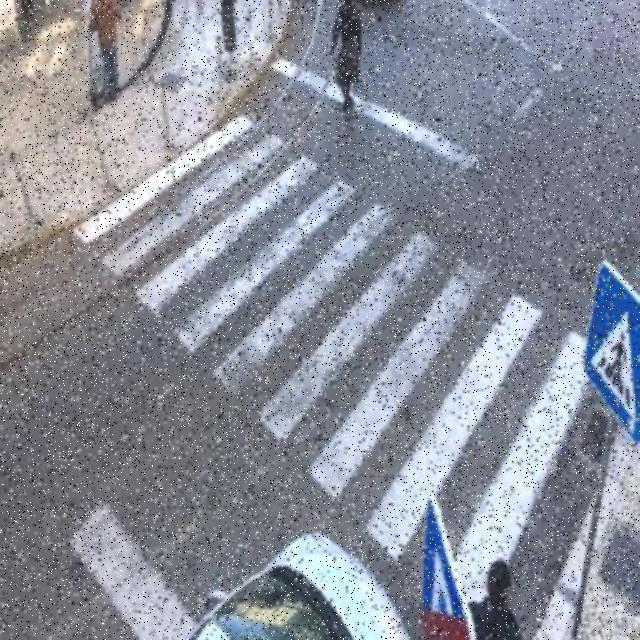crosswalk: (76, 115, 590, 631)
